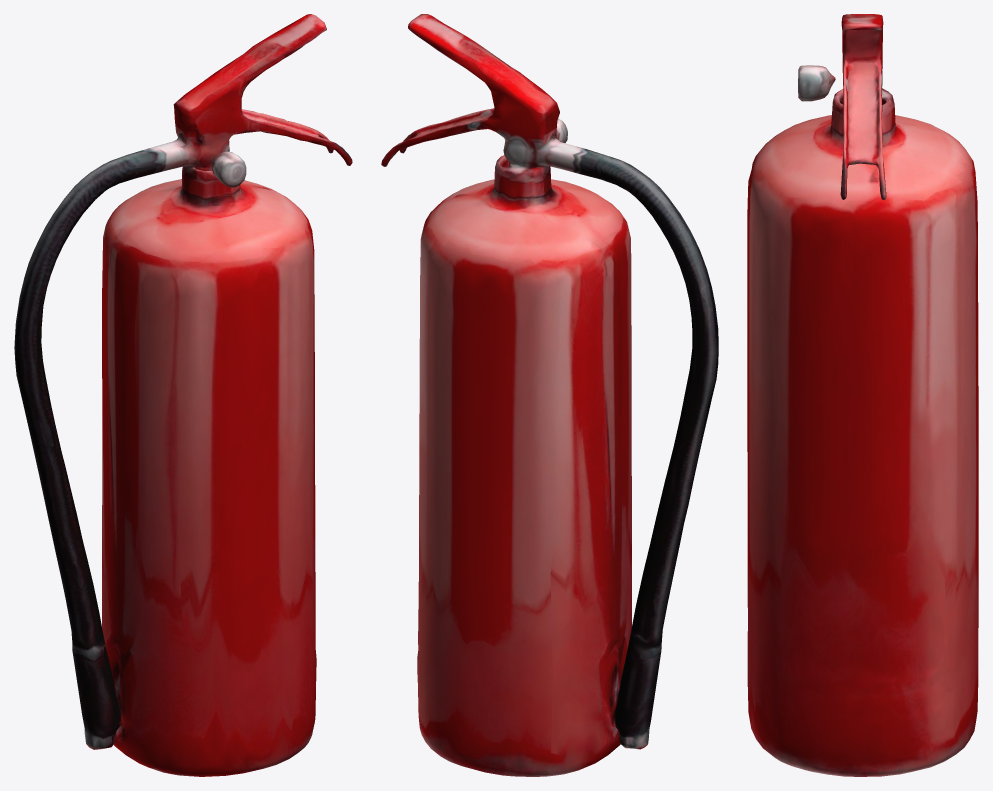
Rendered from firehydrant.glb.
The picture shows the model from 3 angles, left to right: view 1: azimuth 30°, elevation 25°; view 2: azimuth 150°, elevation 25°; view 3: azimuth 270°, elevation 25°; orthographic projection. The views are drawn at different scales.
Visible parts, largest first — view 1: model; view 2: model; view 3: model.
Boxes of the visible parts, x1,y1,x2,y2 form: model: [14, 14, 352, 776]; model: [381, 14, 718, 776]; model: [747, 14, 978, 776].
Size of the model in its own units: 0.4972 by 1.01 by 0.2752.
Materials: 1 (1 with a texture image).
